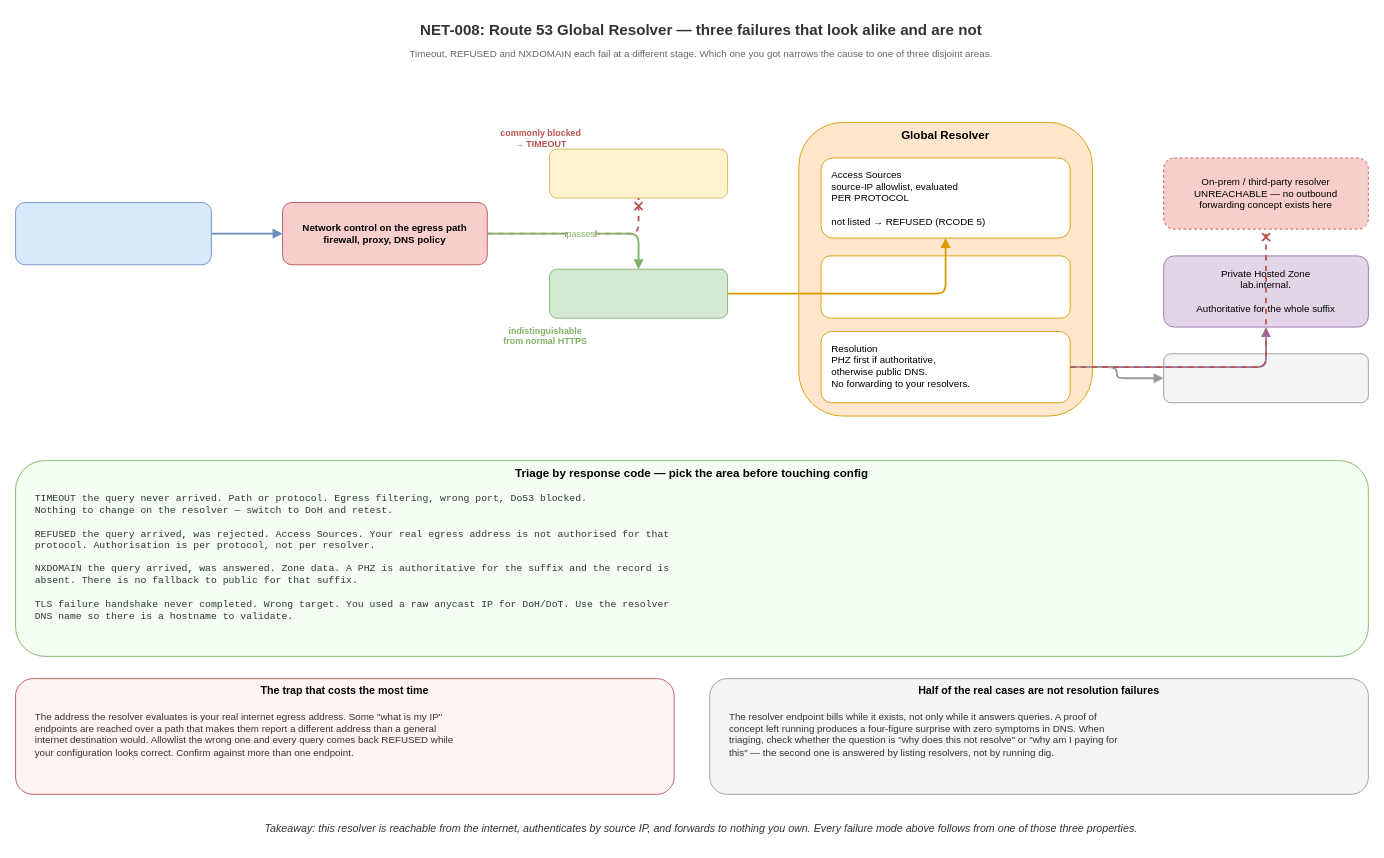
The diagram is 1384 pixels wide and 858 high, and some of its shapes have lost their labels. The shapes that lost their labels are listed below. From the top down, each one's centre as x and y in pixels, then its label:
point (638, 173): Do53 — UDP/TCP 53 to an anycast IP
point (113, 233): Client outside AWS laptop, on-prem host, another cloud
point (638, 293): DoH / DoT — TCP 443/853 to the resolver DNS name
point (945, 286): DNS View carries the PHZ associations. Same-account PHZ only.
point (1265, 378): Public DNS for every other suffix
